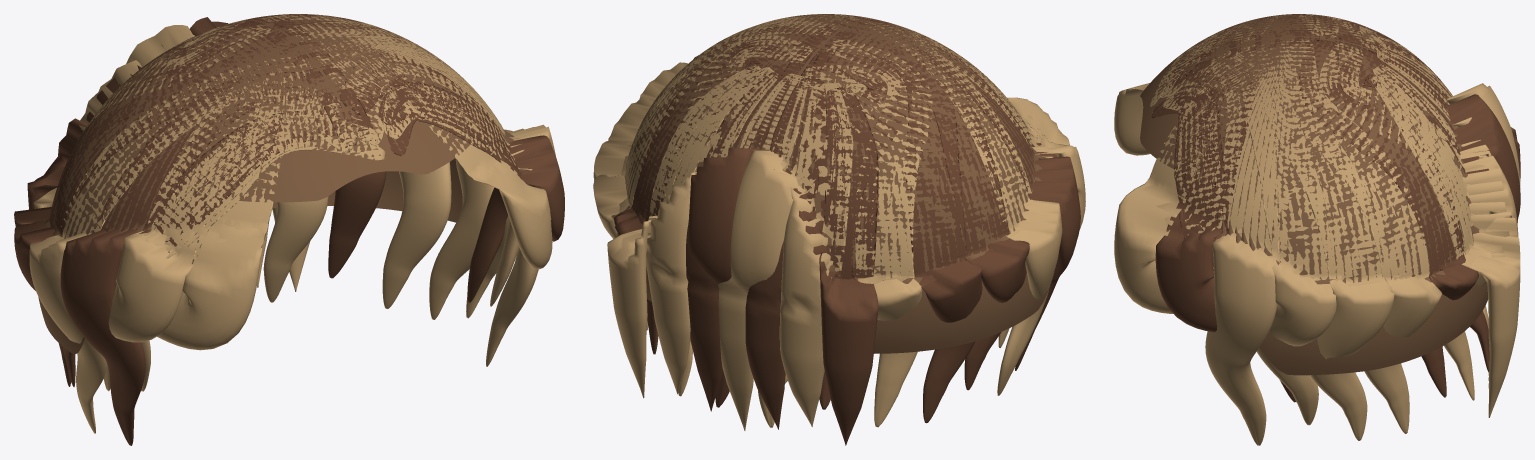
The model's file is Highlights-42d471e67e5f251-hair.glb.
3 renders of one model, left to right at view 1: azimuth 30°, elevation 25°; view 2: azimuth 150°, elevation 25°; view 3: azimuth 270°, elevation 25°, orthographic. The views are drawn at different scales.
Visible parts, largest first — view 1: 226 hair / Hair / main251.001, 226 hair / Hair / accent251.001, 226 hair / Hair / recessed roots251.001; view 2: 226 hair / Hair / main251.001, 226 hair / Hair / accent251.001, 226 hair / Hair / recessed roots251.001; view 3: 226 hair / Hair / main251.001, 226 hair / Hair / accent251.001, 226 hair / Hair / recessed roots251.001.
Part boxes in pixels (x1,y1,x2,y2): 226 hair / Hair / main251.001: (14,14,564,445); 226 hair / Hair / accent251.001: (29,14,555,433); 226 hair / Hair / recessed roots251.001: (38,14,514,354); 226 hair / Hair / main251.001: (593,14,1080,445); 226 hair / Hair / accent251.001: (593,14,1085,430); 226 hair / Hair / recessed roots251.001: (617,14,1054,353); 226 hair / Hair / main251.001: (1114,14,1520,440); 226 hair / Hair / accent251.001: (1114,14,1520,445); 226 hair / Hair / recessed roots251.001: (1140,14,1487,375).
Size of the model in its own units: 1.11 by 0.8033 by 0.8725.
